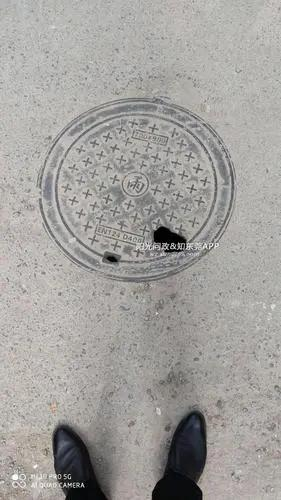wellcover: (38, 97, 257, 284)
